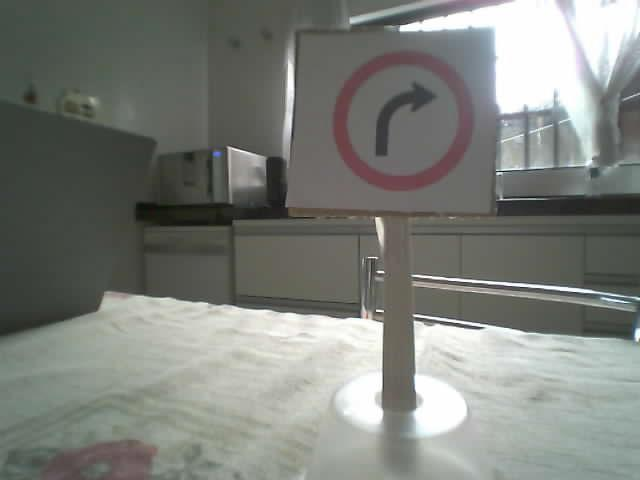R-25b_direita: (332, 50, 472, 190)
